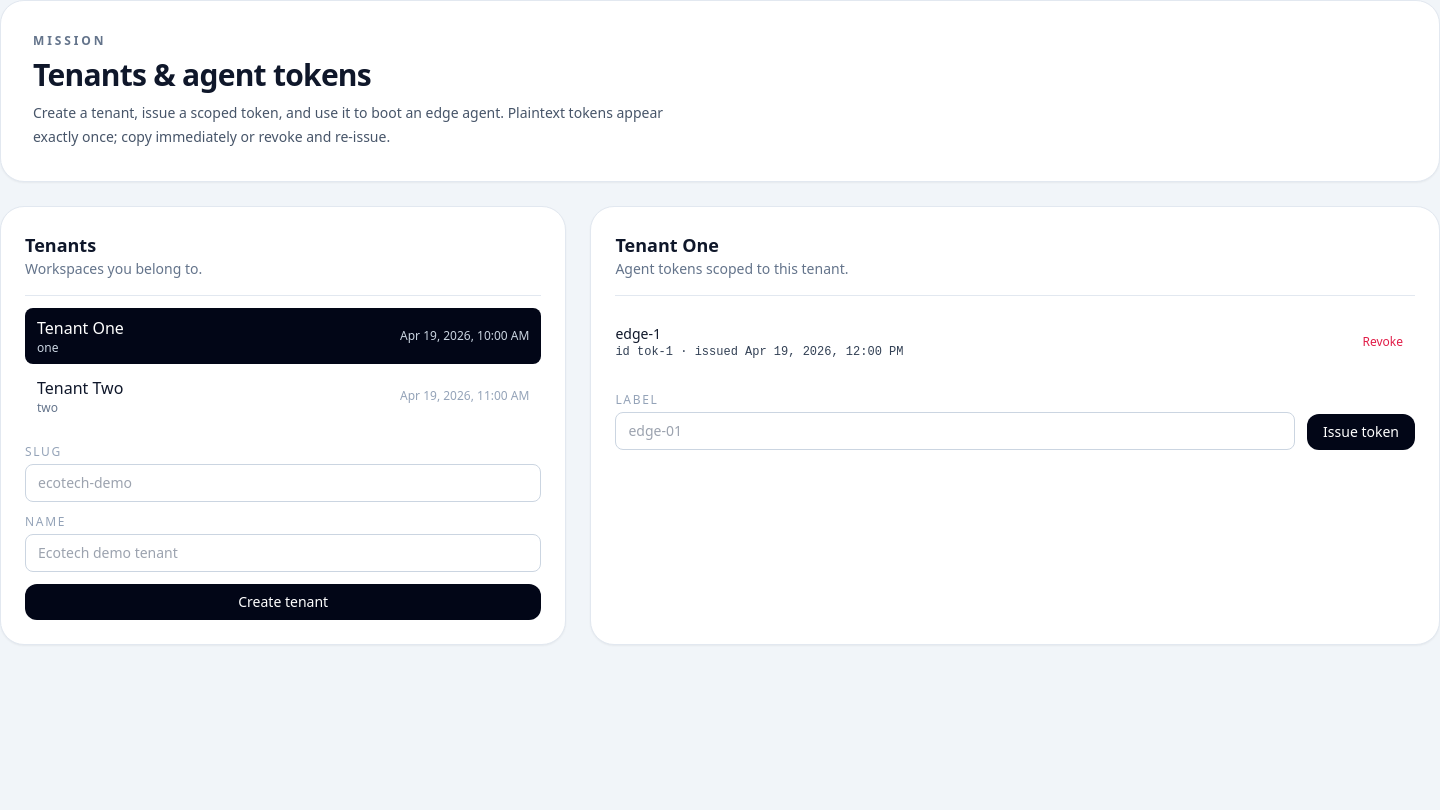
Test: TenantsPage › lists tenants and selects the first one by default
This screenshot has width=1440, height=810.
Expected: the text "Tenant One" is shown, [37,316,124,340]
Expected: the text "edge-1" is shown, [615,324,661,343]
Click the text "Tenant Two": (80, 388) [37,376,123,400]
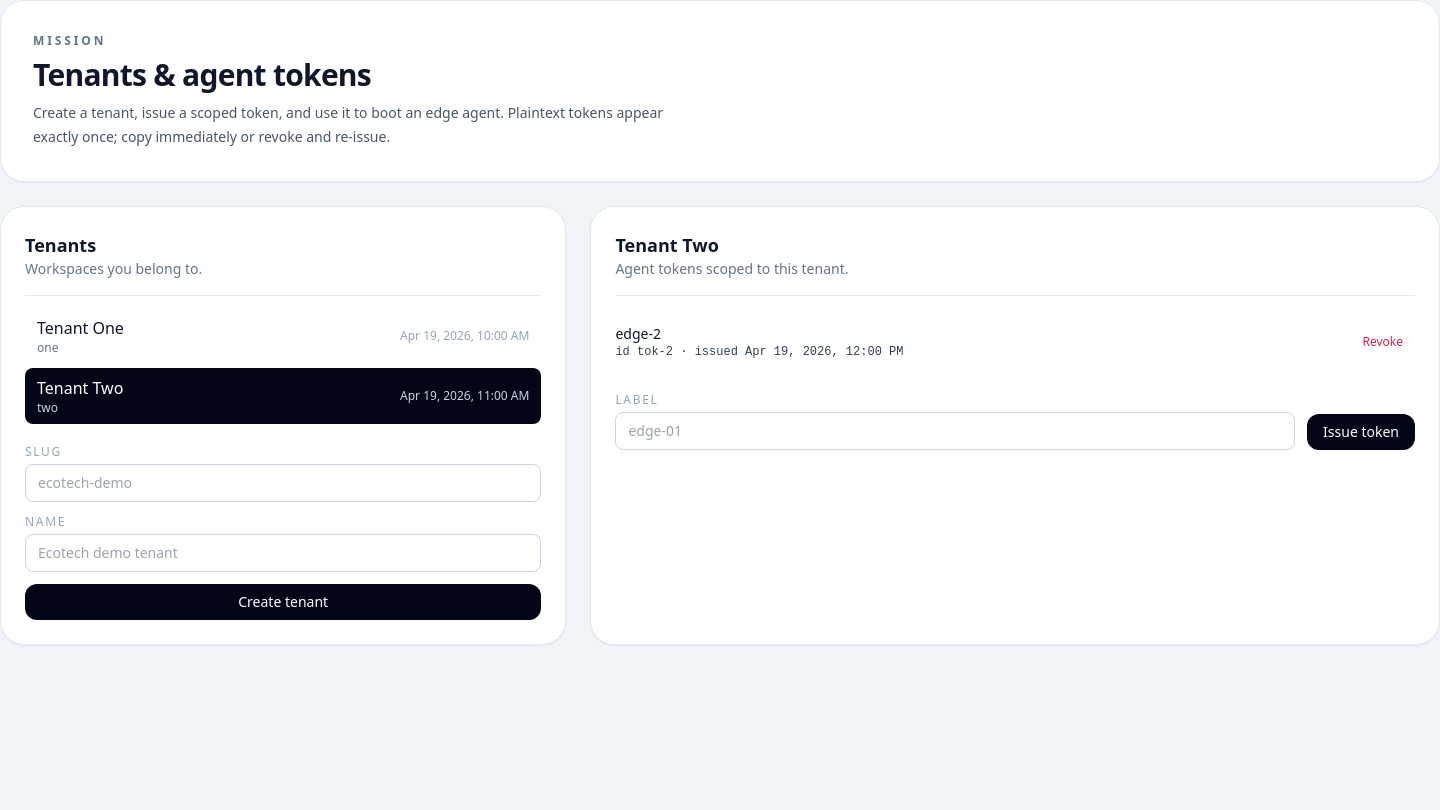
Result: the text "edge-2" is shown at [615,324,661,343]
